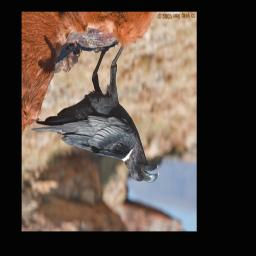Crow: (30, 40, 159, 186)
